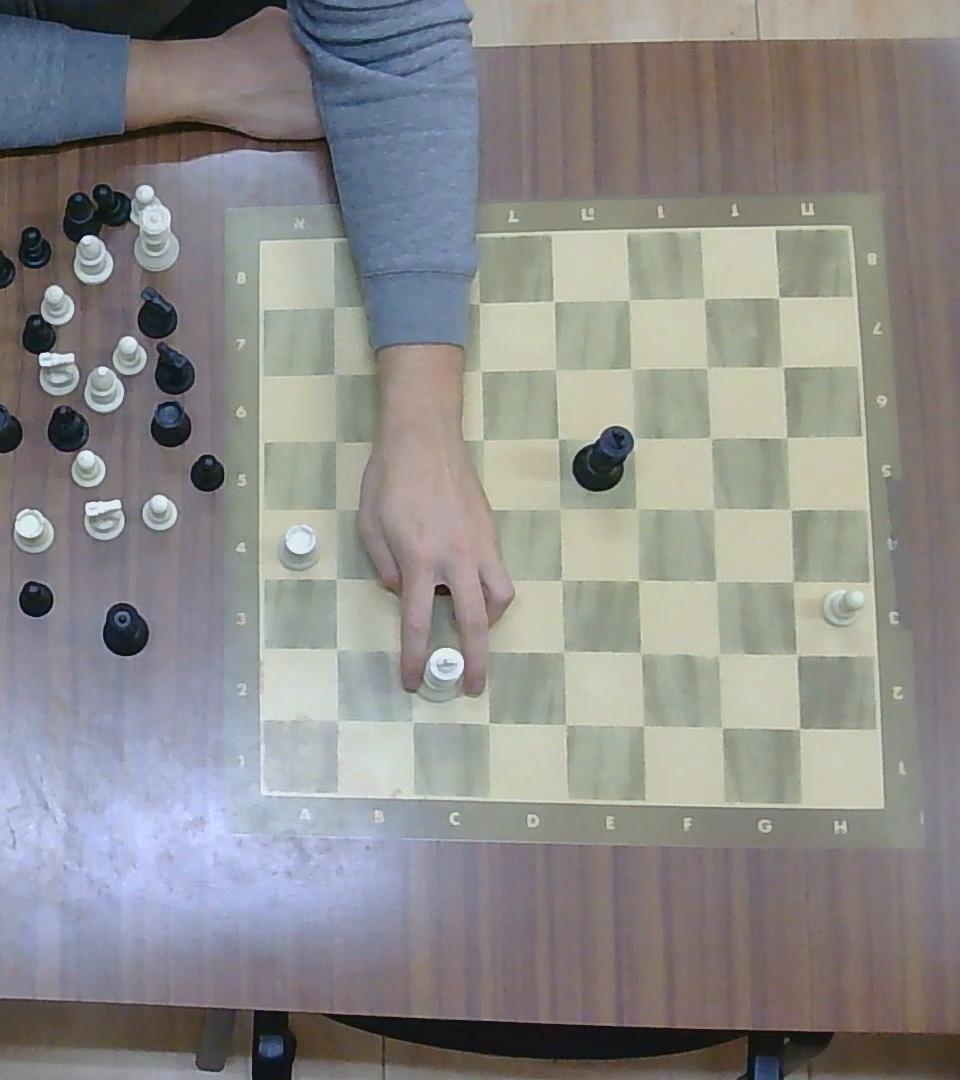xcorner: (702, 638, 734, 670), (548, 707, 579, 740), (393, 286, 423, 320), (626, 709, 657, 741), (705, 710, 735, 743), (625, 637, 656, 668), (781, 637, 812, 668), (783, 711, 813, 743), (393, 353, 423, 385), (321, 703, 351, 734), (397, 704, 426, 736), (472, 707, 502, 737), (548, 636, 578, 666), (615, 283, 645, 313), (394, 634, 424, 664), (700, 565, 729, 595), (539, 285, 568, 315), (776, 493, 806, 522), (470, 567, 500, 596), (699, 493, 728, 522), (623, 564, 652, 593), (777, 567, 806, 596), (693, 351, 722, 380), (623, 493, 652, 522), (769, 351, 798, 380), (471, 635, 500, 664), (318, 290, 346, 320), (396, 565, 424, 595), (691, 282, 719, 311), (542, 353, 570, 382), (619, 353, 647, 382), (320, 358, 348, 387), (467, 424, 495, 453), (465, 287, 493, 316), (396, 496, 424, 525), (772, 423, 801, 450), (621, 423, 650, 450), (543, 423, 571, 450), (548, 565, 576, 592), (699, 422, 725, 451), (467, 353, 493, 382), (766, 282, 792, 311), (323, 635, 349, 663), (471, 496, 497, 523), (545, 495, 573, 520), (395, 426, 420, 454), (323, 563, 348, 590), (323, 426, 348, 451), (324, 495, 349, 520)
